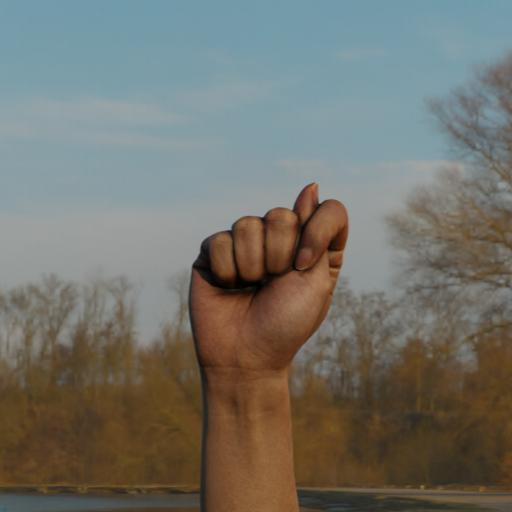T: (170, 168, 364, 390)
